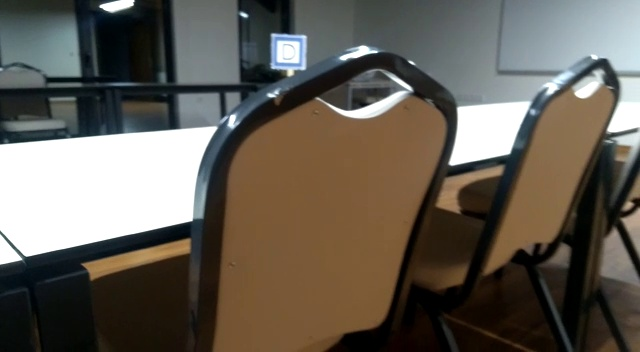durak: (271, 33, 305, 70)
